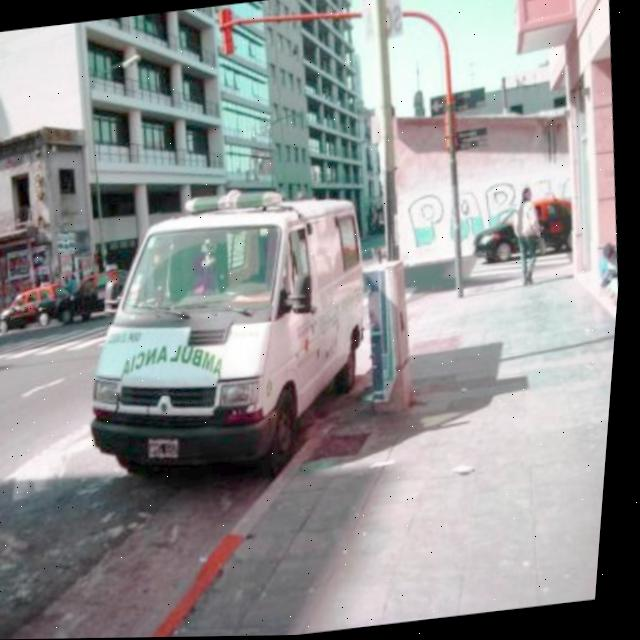emergency: (63, 170, 408, 498)
